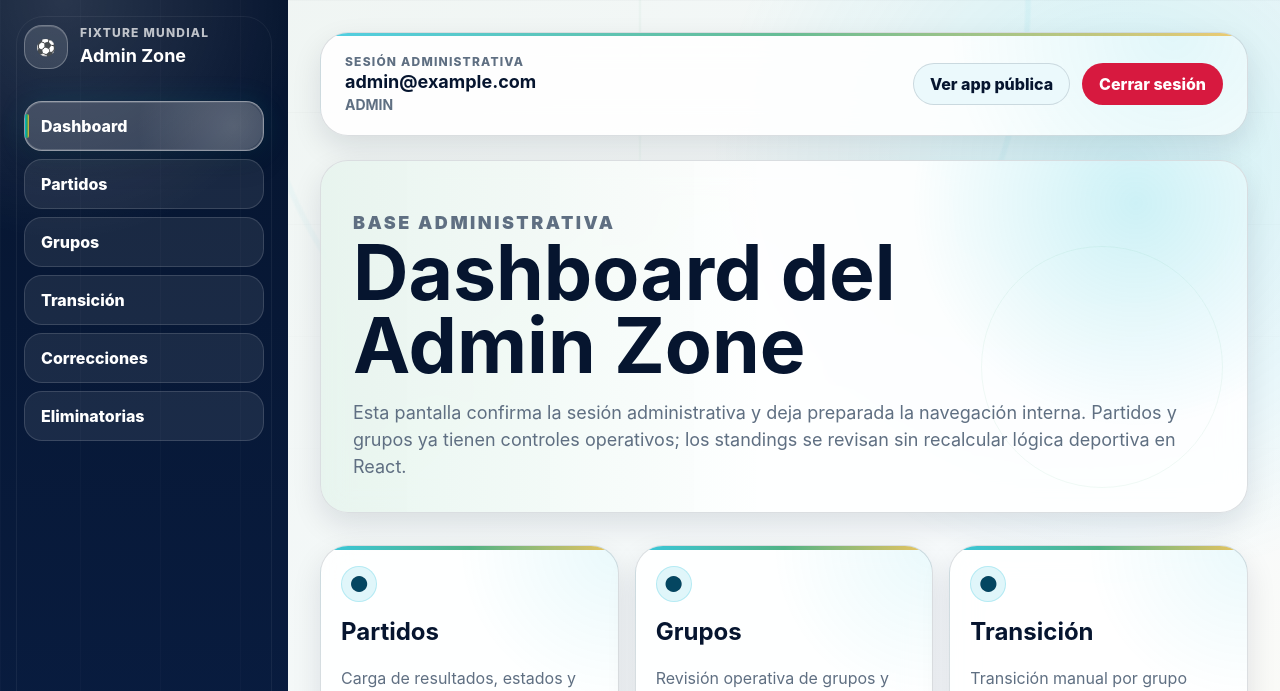
Test: Admin routes › shows a controlled error state when logout fails
Click the button "Cerrar sesión": (1153, 84) left=1082, top=63, right=1223, bottom=105
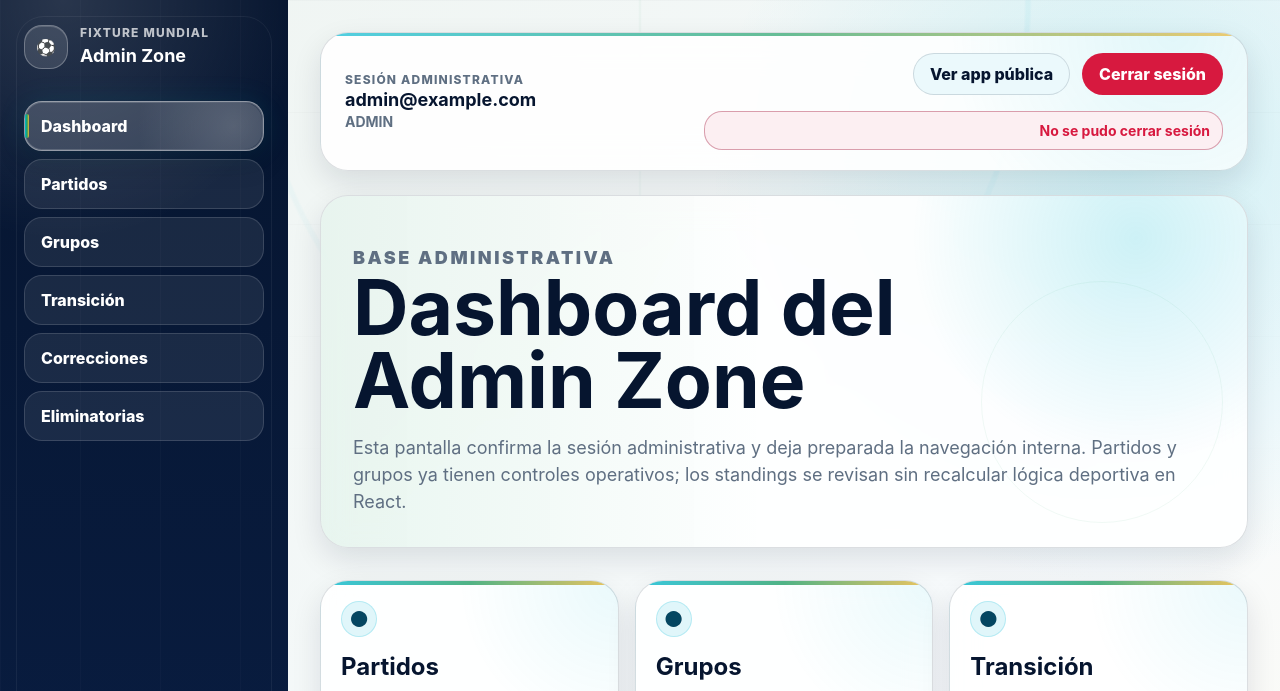
Expected: the heading "Dashboard del Admin Zone" is shown, left=353, top=261, right=896, bottom=427
Now the message shows "cerrar sesión", box left=1040, top=122, right=1210, bottom=139
